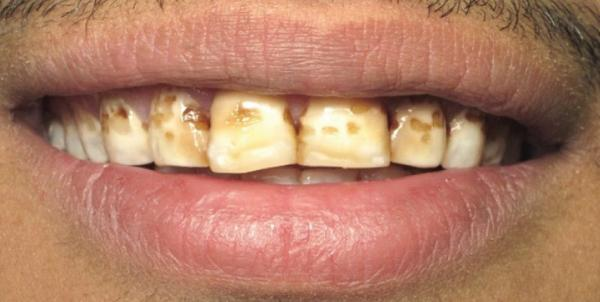ULCI_sdecay: (299, 99, 393, 170)
ULC_sdecay: (444, 107, 483, 170)
ULLI_sdecay: (391, 98, 442, 168)
URCI_mdecay: (210, 90, 296, 177)
URC_sdecay: (99, 99, 154, 170)
URLI_sdecay: (153, 94, 206, 168)
